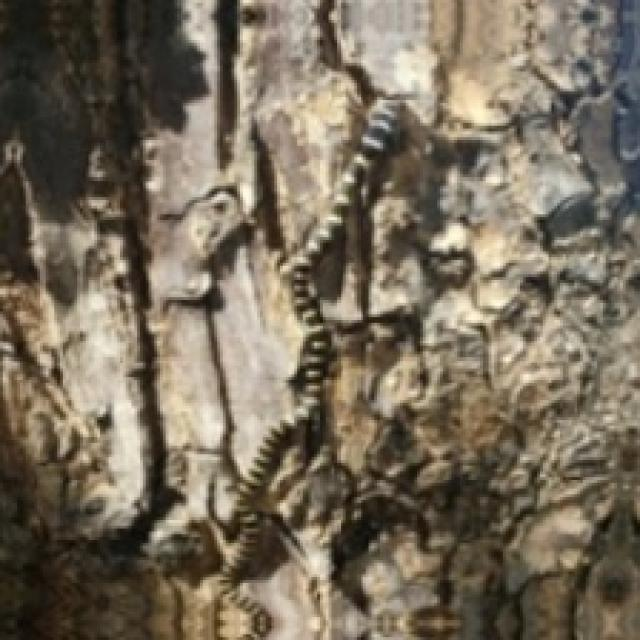paradise tree snake: (229, 97, 451, 637)
